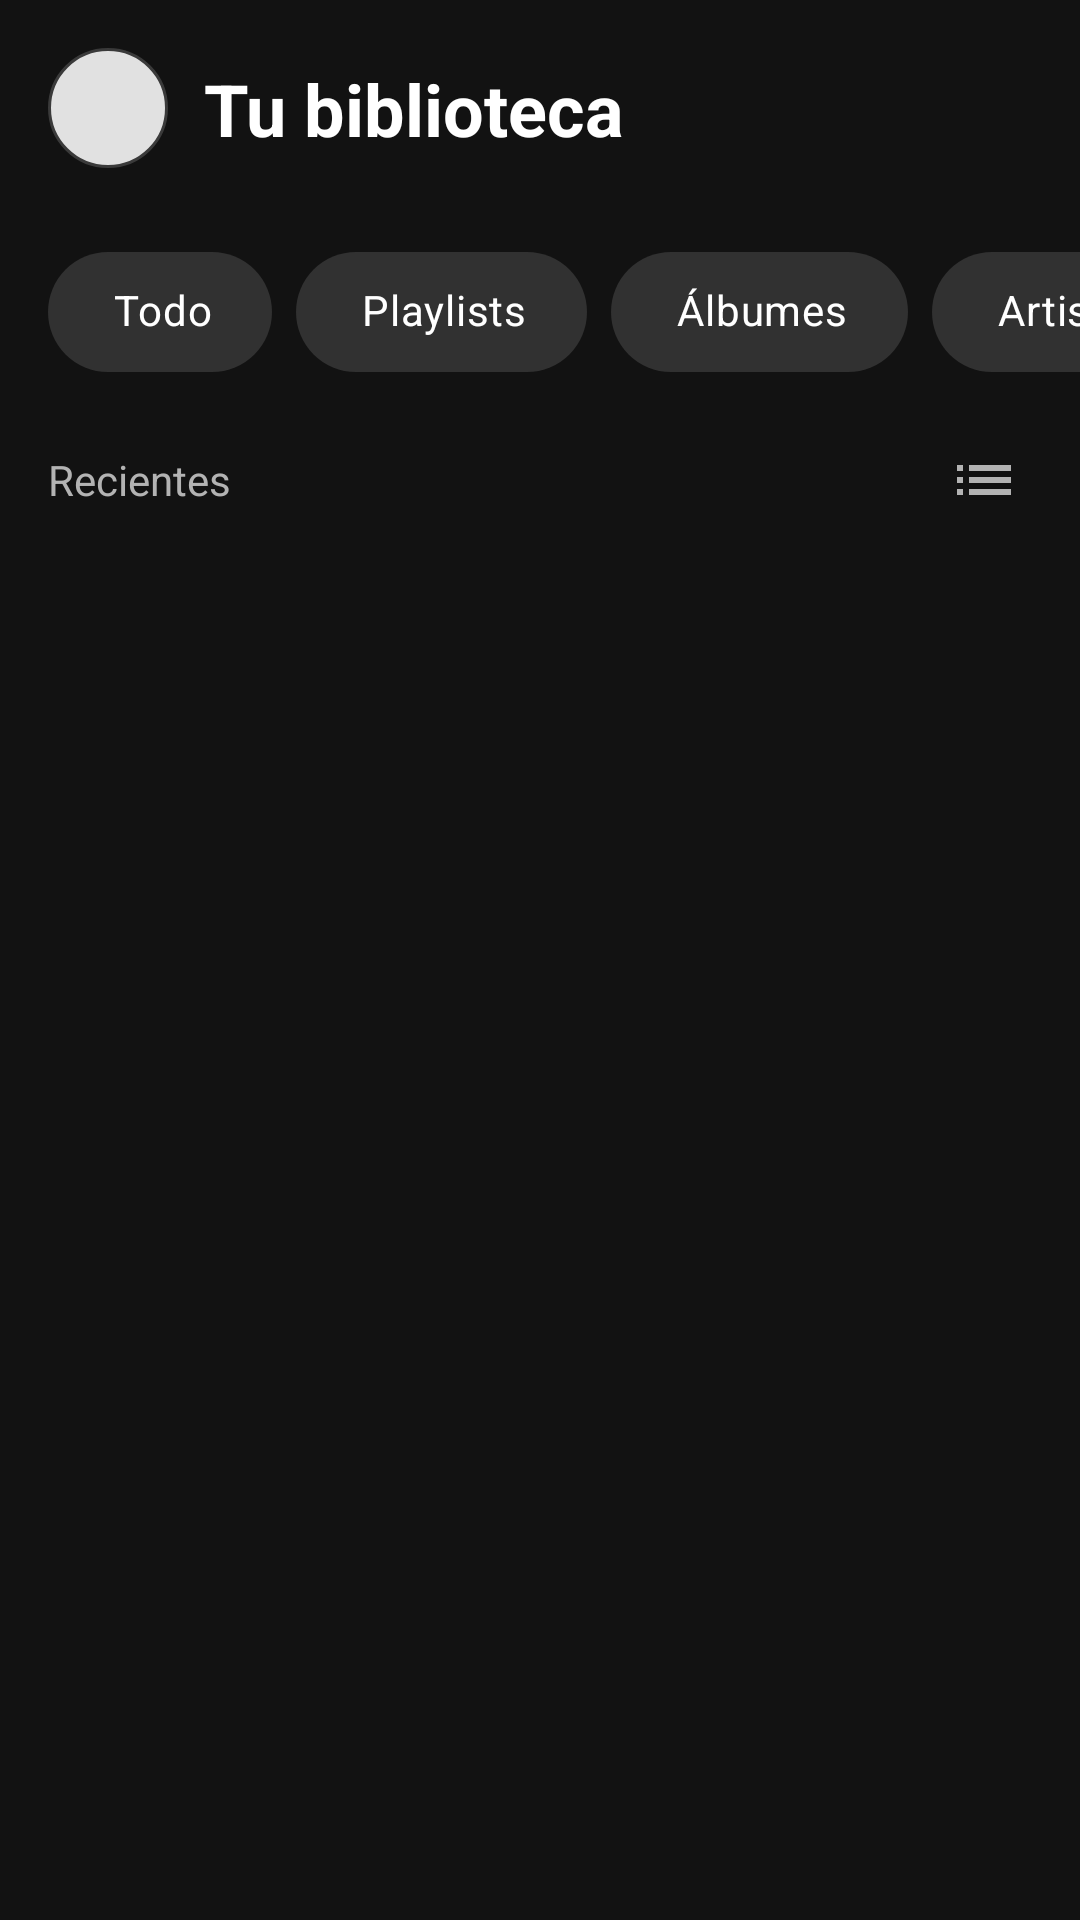

Named icons in this screenshot (1080w x 1920h) and their bounding boxes, [x1,y1,x2,y2]:
view list: [957,465,1011,495]
